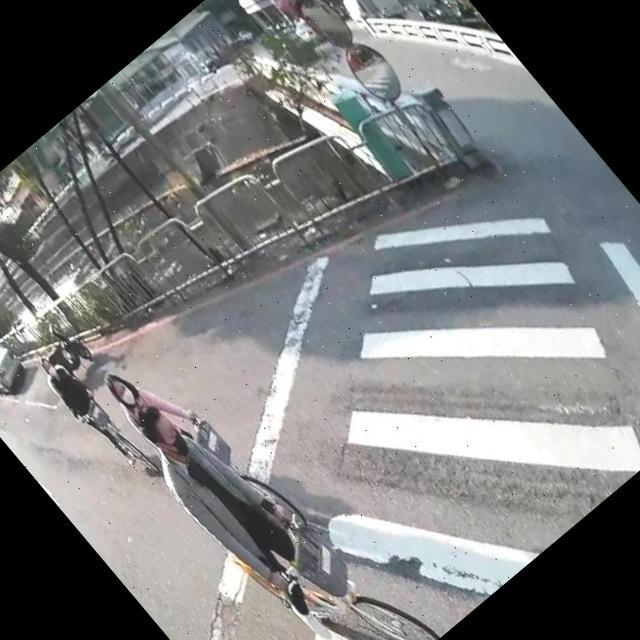person: (109, 373, 370, 640), (27, 340, 150, 476), (94, 342, 208, 463)
